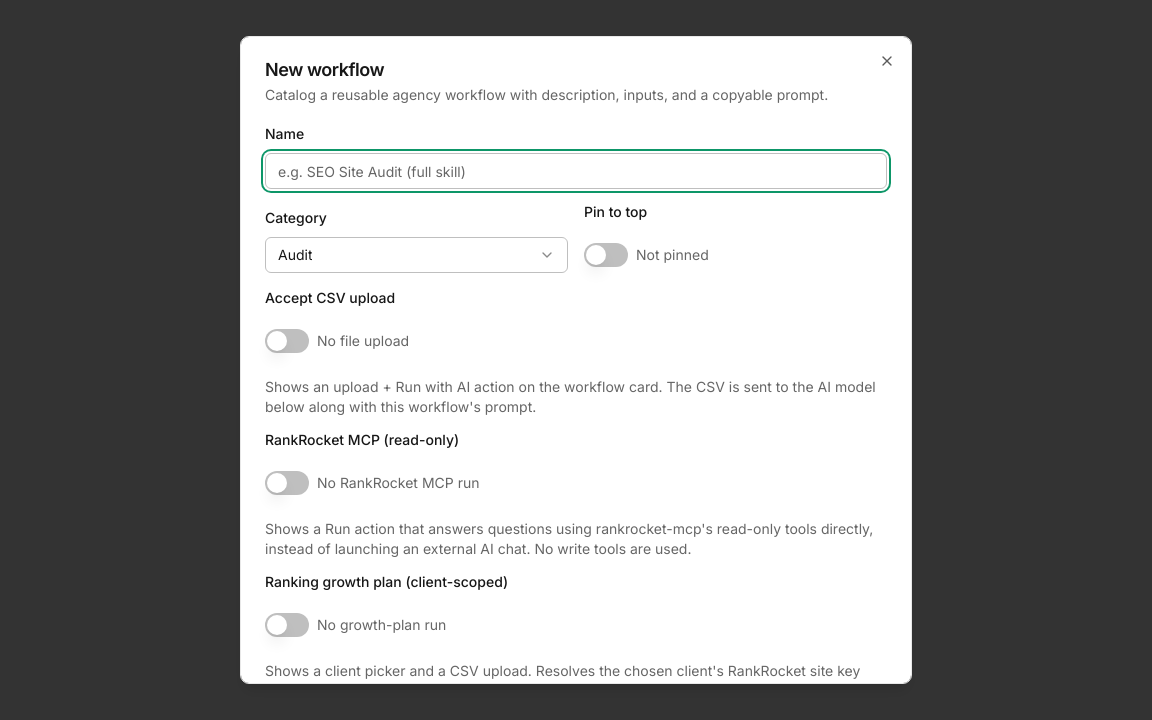
Test: WorkflowDialog - AI model selection (B-22) › shows the AI model select only when Accept CSV upload is on
Click the switch with test id "switch-accepts-file" at (287, 341), box [265,329,309,353]
(page scrolled)
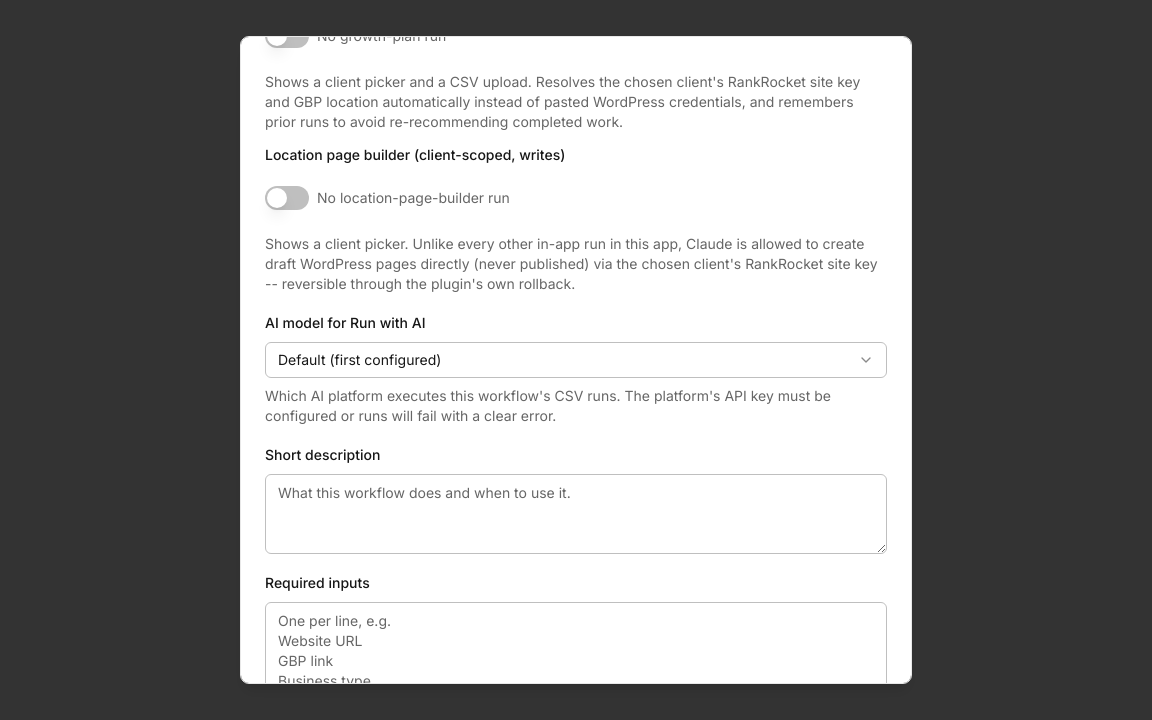
Result: the dropdown with test id "select-ai-adapter" is shown at [265,342,887,378]
